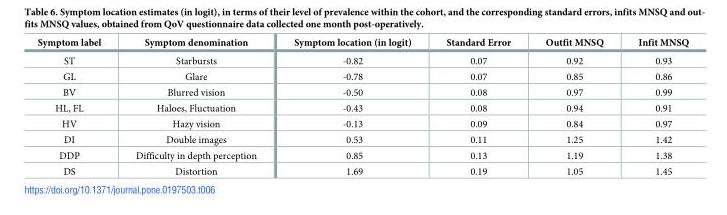table: (36, 37, 688, 176)
table column: (117, 37, 274, 176), (274, 37, 428, 176), (428, 37, 527, 176), (527, 37, 620, 176), (36, 37, 117, 176), (620, 37, 688, 176)
table column header: (36, 37, 688, 51)
table row: (36, 51, 688, 68), (36, 68, 688, 84), (36, 84, 688, 100), (36, 115, 688, 131), (36, 131, 688, 147), (36, 147, 688, 163), (36, 100, 688, 115), (36, 37, 688, 51), (36, 163, 688, 176)
